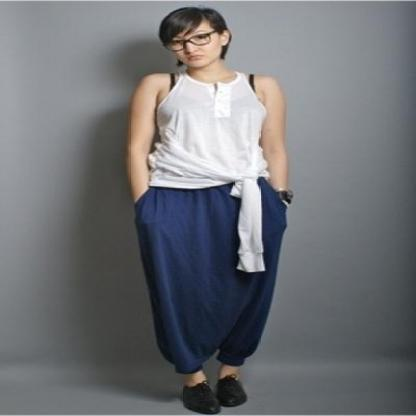pants: (135, 176, 291, 373)
shirt: (149, 72, 268, 271)
shoe: (182, 374, 236, 400)
